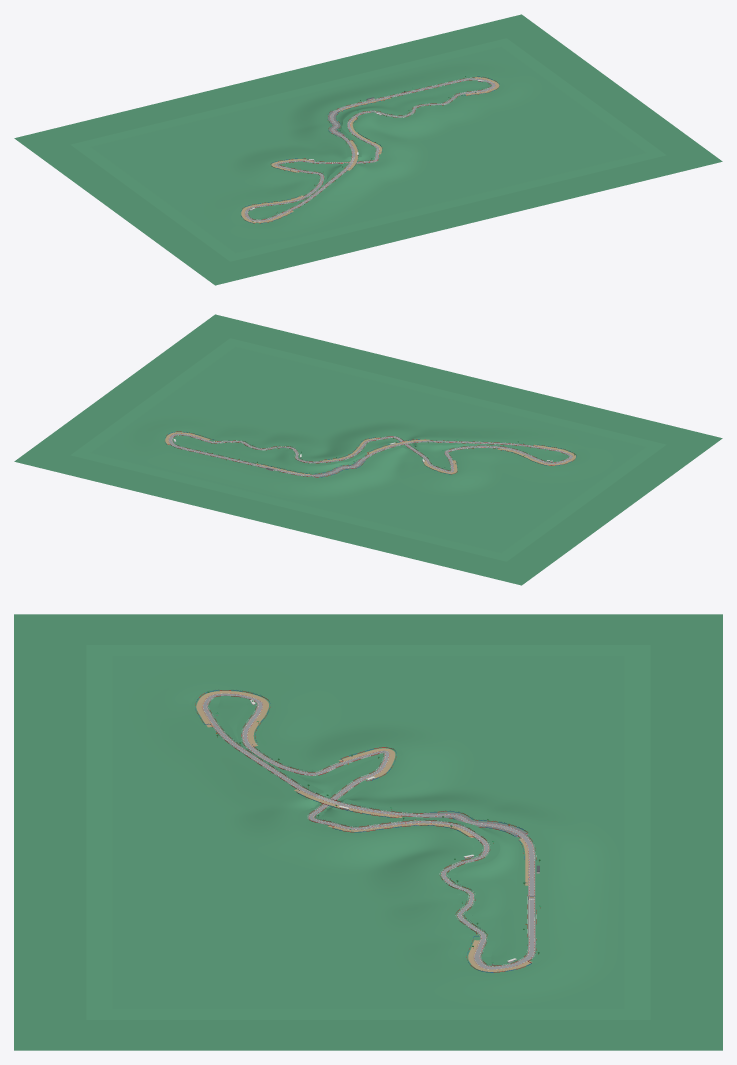
File: suzuka.glb
3 renders of one model, top to bottom at view 1: azimuth 30°, elevation 25°; view 2: azimuth 150°, elevation 25°; view 3: azimuth 270°, elevation 25°, orthographic. The views are drawn at different scales.
Parts seen in each view (by area): view 1: terrain_infield, terrain_outskirts, terrain_verge, track_embankment, track_surface, continuous_safety_barriers, track_runoff, gravel_runoff_zones; view 2: terrain_infield, terrain_outskirts, terrain_verge, track_embankment, track_surface, continuous_safety_barriers, track_runoff, gravel_runoff_zones; view 3: terrain_infield, terrain_outskirts, terrain_verge, track_embankment, track_surface, track_runoff, gravel_runoff_zones, continuous_safety_barriers, track_curbs, grass_runoff_zones.
Part boxes in pixels (<box>): terrain_infield: <box>91,47,645,252</box>; terrain_outskirts: <box>14,14,722,285</box>; terrain_verge: <box>70,38,666,261</box>; track_embankment: <box>238,75,502,224</box>; track_surface: <box>245,78,495,221</box>; continuous_safety_barriers: <box>240,76,499,223</box>; track_runoff: <box>244,78,494,221</box>; gravel_runoff_zones: <box>241,77,499,222</box>; terrain_infield: <box>91,347,645,552</box>; terrain_outskirts: <box>14,314,722,585</box>; terrain_verge: <box>70,338,666,561</box>; track_embankment: <box>162,431,578,479</box>; track_surface: <box>169,433,572,476</box>; continuous_safety_barriers: <box>165,431,576,477</box>; track_runoff: <box>168,433,572,476</box>; gravel_runoff_zones: <box>165,432,575,474</box>; terrain_infield: <box>112,656,624,1008</box>; terrain_outskirts: <box>14,614,722,1050</box>; terrain_verge: <box>86,645,650,1019</box>; track_embankment: <box>191,688,546,974</box>; track_surface: <box>203,693,534,969</box>; track_runoff: <box>201,693,535,969</box>; gravel_runoff_zones: <box>196,691,532,971</box>; continuous_safety_barriers: <box>195,690,536,972</box>; track_curbs: <box>202,693,534,969</box>; grass_runoff_zones: <box>438,853,489,940</box>.
Bounding box in the file's own units: 3139 × 49.46 × 2155.
